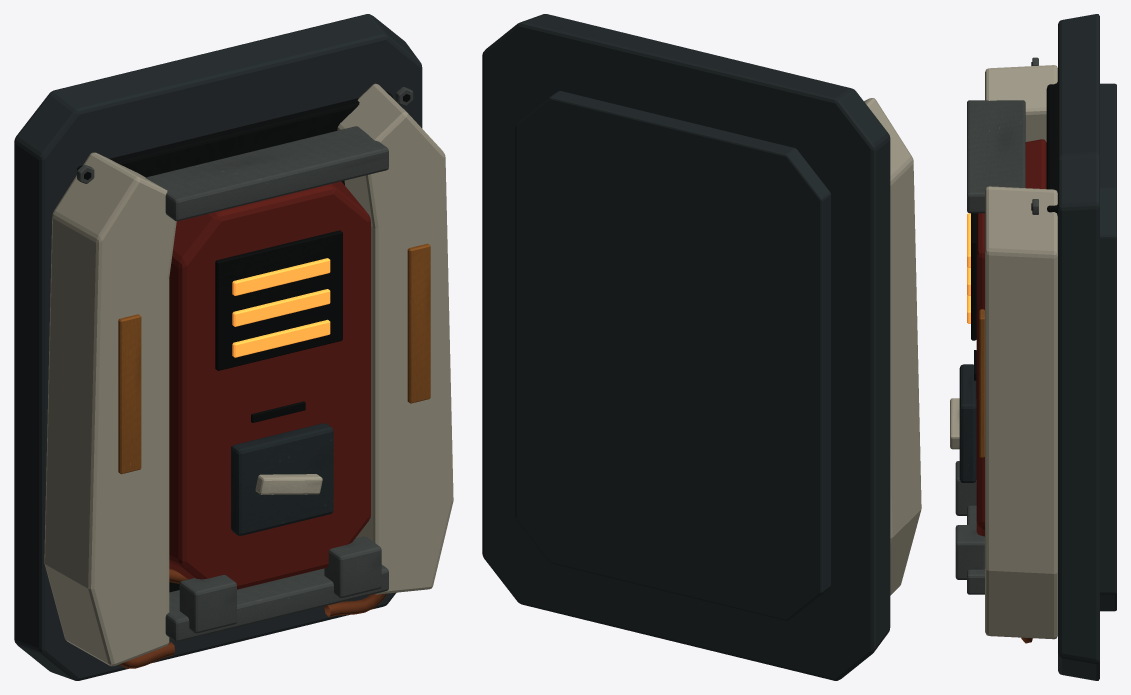
The model's file is baroud.glb.
The picture shows the model from 3 angles, left to right: view 1: azimuth 30°, elevation 25°; view 2: azimuth 150°, elevation 25°; view 3: azimuth 270°, elevation 25°; orthographic projection. The views are drawn at different scales.
Parts seen in each view (by area): view 1: ivory, steel, red, edge, rubber, paint, amber, copper; view 2: steel, ivory; view 3: steel, ivory, edge, red, rubber, paint, amber.
Boxes of the visible parts, box(x1,y1,x2,y2) form: ivory: box(44, 83, 453, 666); steel: box(14, 14, 422, 680); red: box(169, 181, 370, 589); edge: box(77, 87, 413, 641); rubber: box(77, 91, 410, 592); paint: box(118, 243, 430, 474); amber: box(232, 258, 330, 357); copper: box(119, 568, 386, 668); steel: box(482, 14, 890, 680); ivory: box(864, 98, 921, 595); steel: box(959, 14, 1116, 680); ivory: box(950, 65, 1057, 639); edge: box(955, 57, 1038, 594); red: box(976, 139, 1046, 536); rubber: box(971, 62, 1057, 398); paint: box(979, 309, 984, 457); amber: box(967, 213, 970, 323).
Bounding box in the file's own units: 0.1466 × 0.2076 × 0.0595.
8 materials, 7 textured.
